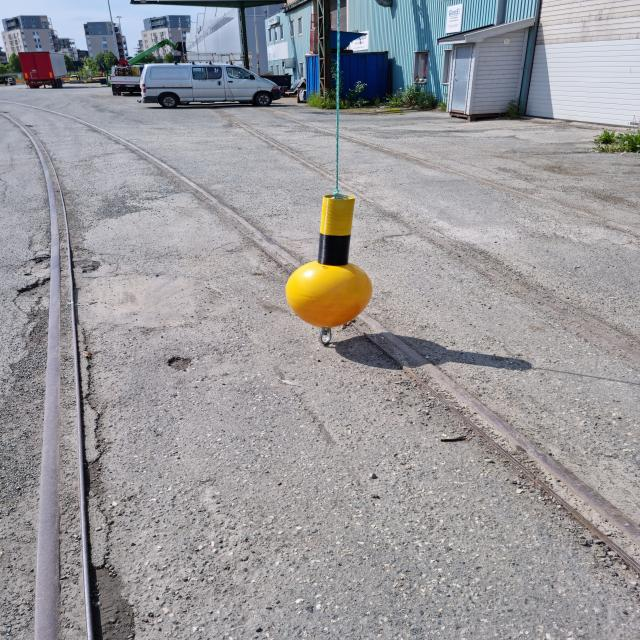west: (284, 195, 372, 327)
